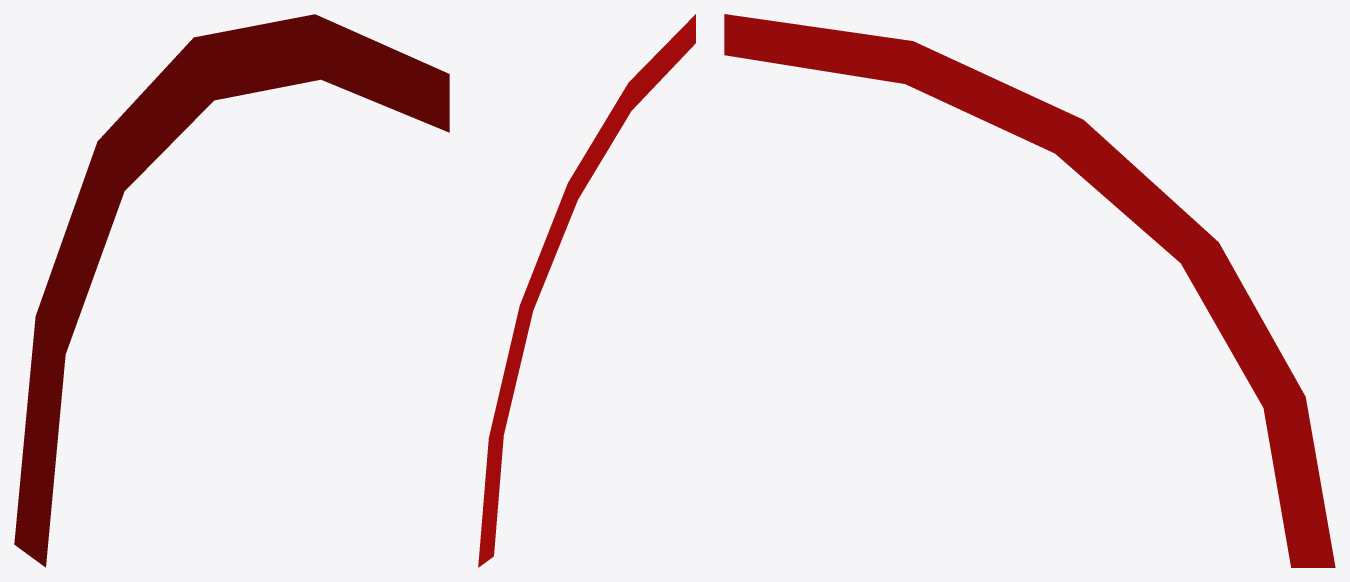
Rendered from X_CRing.fbx.
The picture shows the model from 3 angles, left to right: view 1: azimuth 30°, elevation 25°; view 2: azimuth 150°, elevation 25°; view 3: azimuth 270°, elevation 25°; orthographic projection. The views are drawn at different scales.
Parts seen in each view (by area): view 1: pCylinder1; view 2: pCylinder1; view 3: pCylinder1.
Part boxes in pixels (box(x1,y1,x2,y2)): pCylinder1: box(14, 14, 449, 567); pCylinder1: box(478, 14, 695, 567); pCylinder1: box(724, 14, 1335, 567).
Bounding box in the file's own units: 6.13e-17 × 1 × 1.
